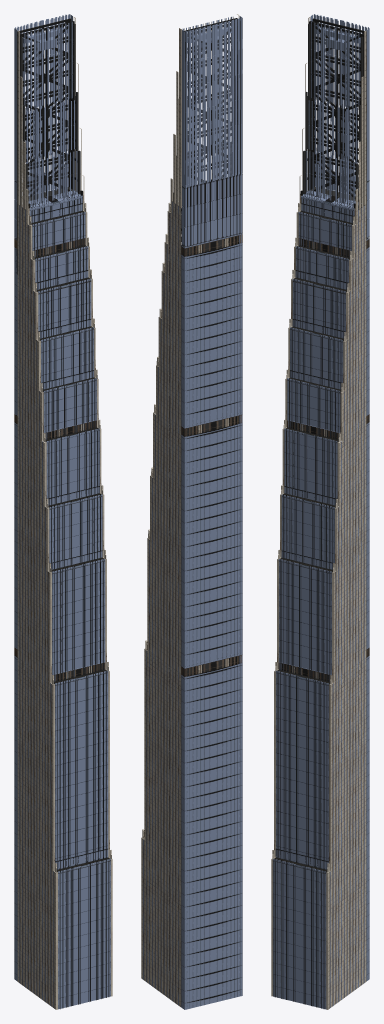
File: building.glb
3 views of the same model, side by side, from view 1: azimuth 30°, elevation 25°; view 2: azimuth 210°, elevation 25°; view 3: azimuth 330°, elevation 25° (orthographic). The views are drawn at different scales.
Visible parts, largest first — view 1: M_111W57_01; view 2: M_111W57_01; view 3: M_111W57_01.
Part boxes in pixels (box(x1,y1,x2,y2)): M_111W57_01: box(14, 14, 112, 1009); M_111W57_01: box(141, 14, 242, 1009); M_111W57_01: box(271, 14, 369, 1009).
Size of the model in its own units: 0.1796 by 2.88 by 0.2367.
1 material, 1 textured.
